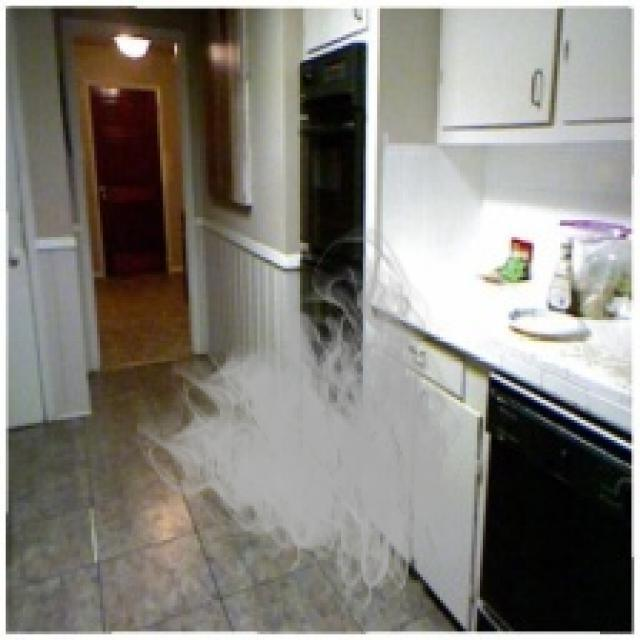Smoke: (137, 220, 486, 626)
